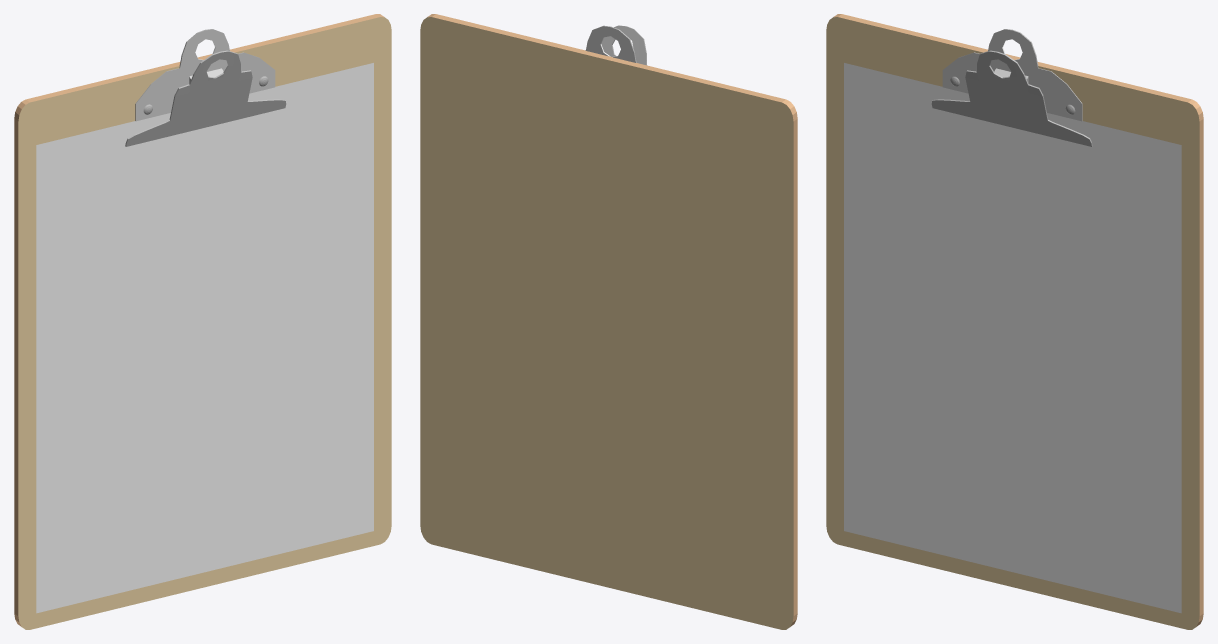
Rendered from clipboard.fbx.
3 renders of one model, left to right at view 1: azimuth 30°, elevation 25°; view 2: azimuth 150°, elevation 25°; view 3: azimuth 330°, elevation 25°, orthographic.
Parts seen in each view (by area): view 1: Clipboard; view 2: Clipboard; view 3: Clipboard.
Boxes of the visible parts, left/top/right/bottom form: Clipboard: left=14, top=14, right=391, bottom=629; Clipboard: left=420, top=14, right=797, bottom=629; Clipboard: left=826, top=14, right=1203, bottom=629.
Size of the model in its own units: 324 by 462 by 30.11.
